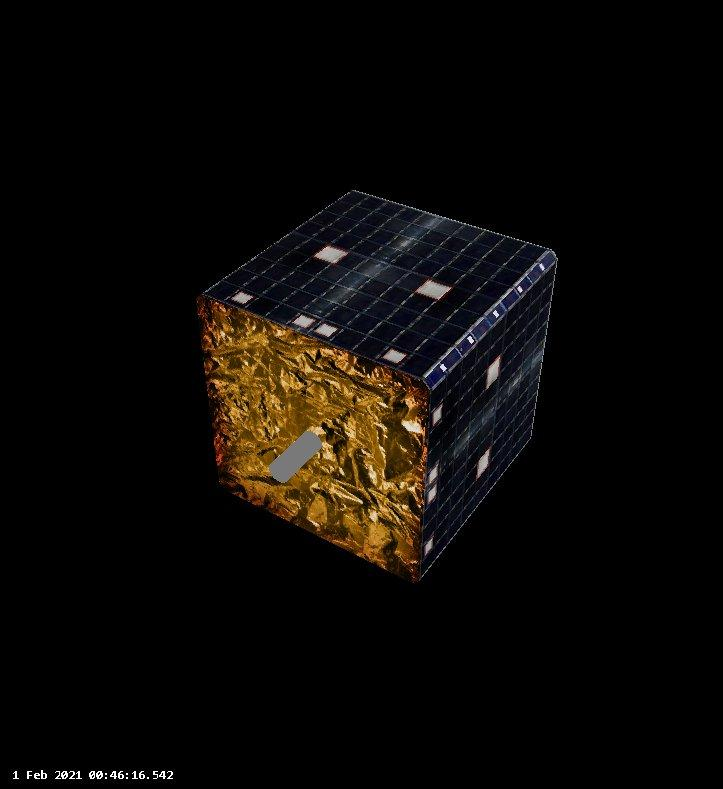body: (192, 181, 563, 586)
solar: (198, 184, 555, 381), (414, 255, 559, 584)
thruster: (264, 427, 326, 485)
